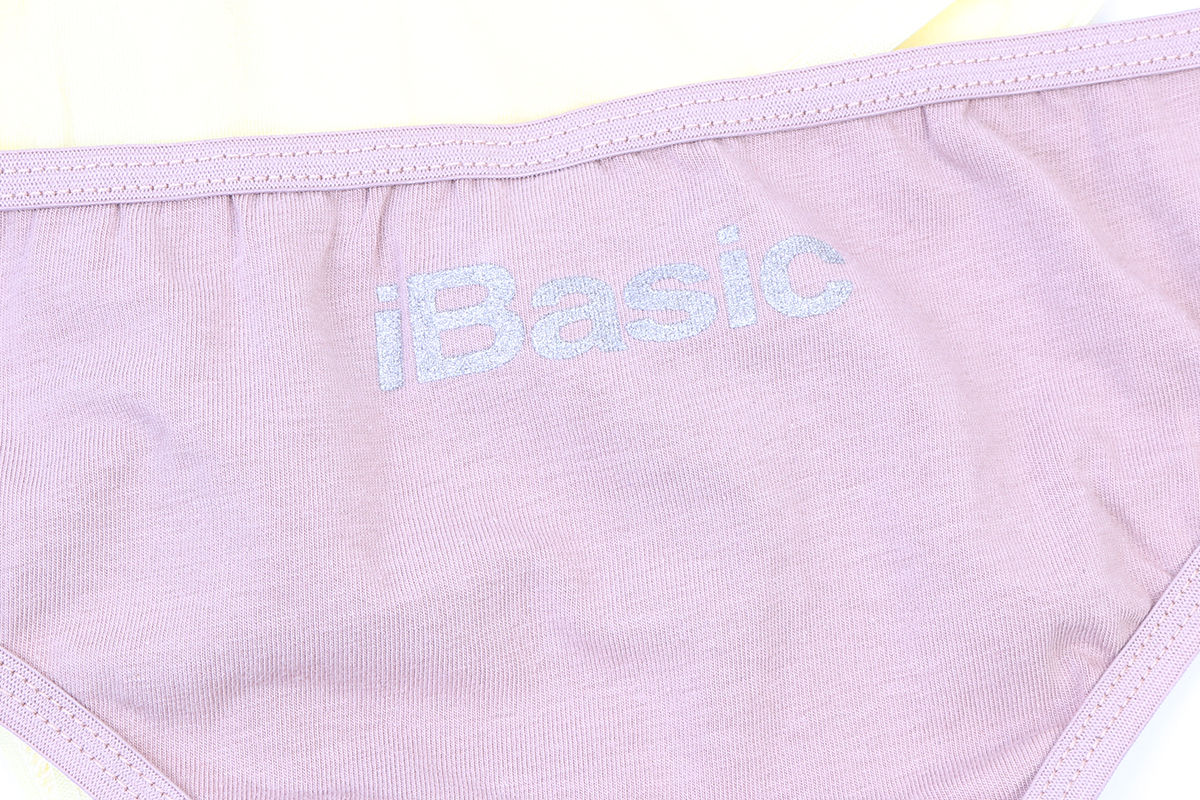iBasic: (363, 214, 864, 405)
